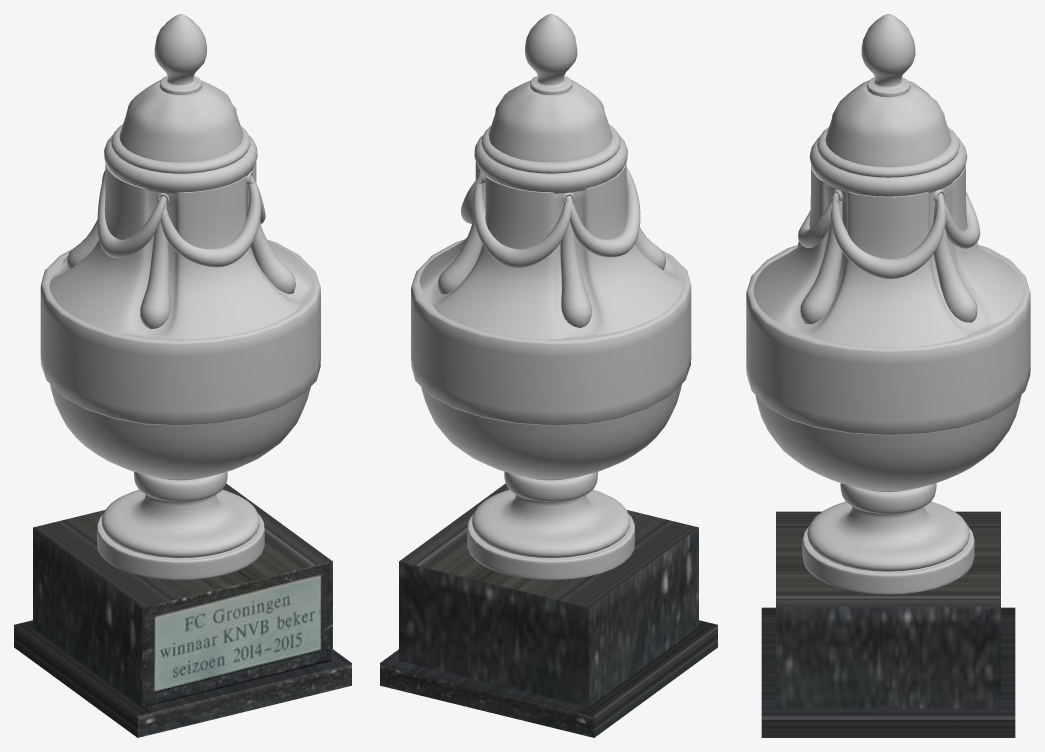
File: Trophy Final.fbx
3 renders of one model, left to right at view 1: azimuth 30°, elevation 25°; view 2: azimuth 150°, elevation 25°; view 3: azimuth 270°, elevation 25°, orthographic. The views are drawn at different scales.
Visible parts, largest first — view 1: Trophy_mesh, Trophy_Holder_Mesh; view 2: Trophy_mesh, Trophy_Holder_Mesh; view 3: Trophy_mesh, Trophy_Holder_Mesh.
Boxes of the visible parts, box(x1,y1,x2,y2) form: Trophy_mesh: box(40, 14, 320, 580); Trophy_Holder_Mesh: box(14, 483, 351, 737); Trophy_mesh: box(411, 14, 691, 580); Trophy_Holder_Mesh: box(380, 483, 717, 737); Trophy_mesh: box(746, 14, 1030, 594); Trophy_Holder_Mesh: box(761, 511, 1015, 737).
Size of the model in its own units: 106 by 276 by 106.
